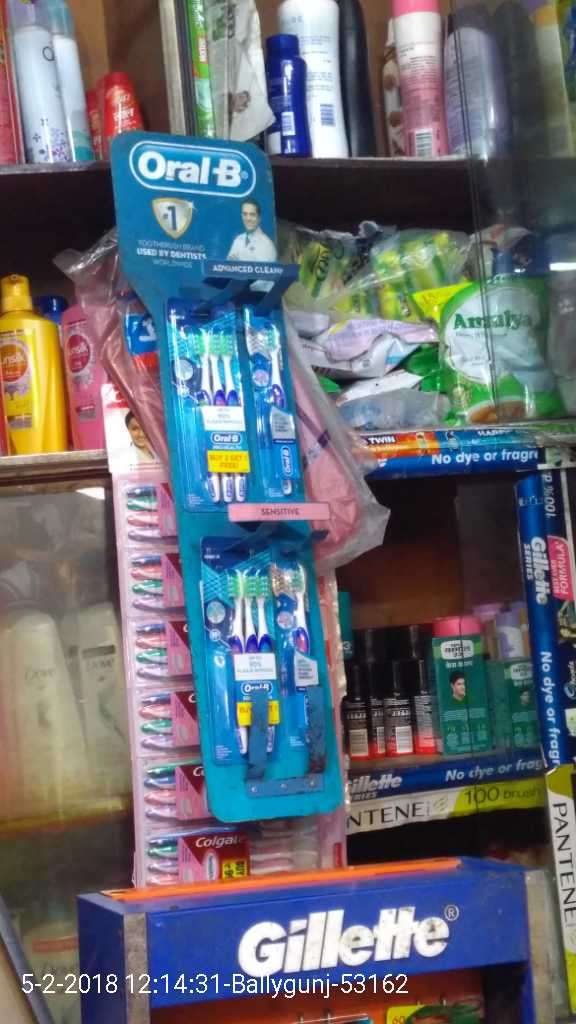oralb: (200, 535, 288, 761), (170, 296, 253, 505), (246, 299, 303, 499), (276, 548, 325, 745)
